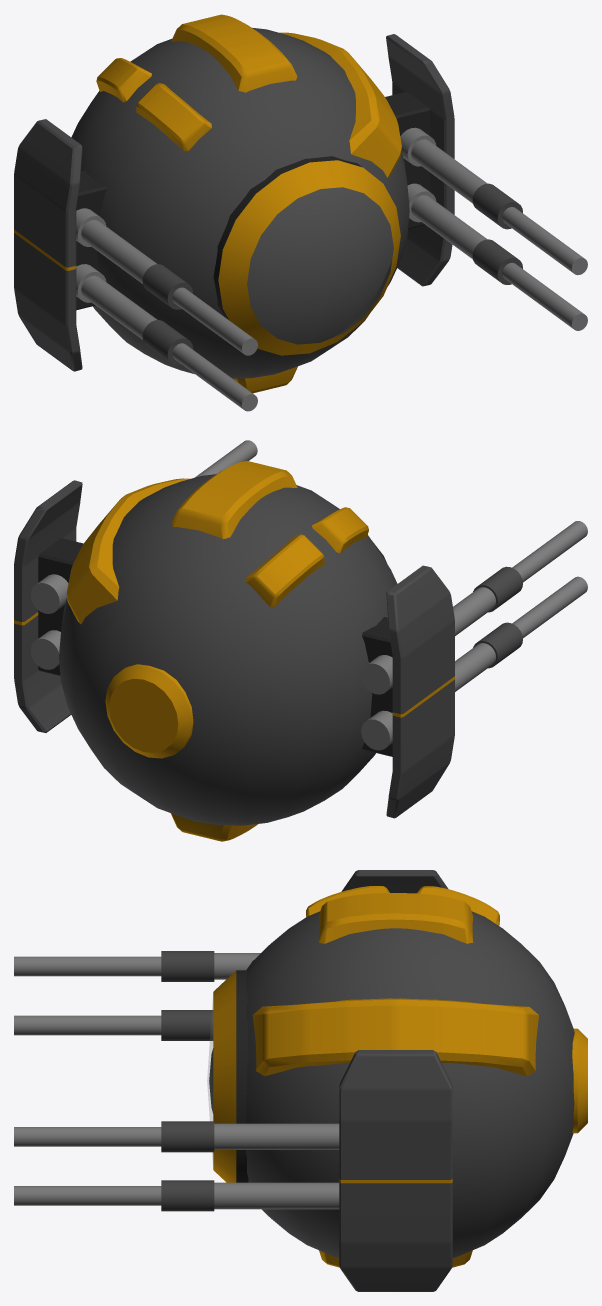
File: drone01.fbx
3 views of the same model, one above another, from view 1: azimuth 30°, elevation 25°; view 2: azimuth 150°, elevation 25°; view 3: azimuth 270°, elevation 25° (orthographic). The views are drawn at different scales.
Parts seen in each view (by area): view 1: polySurface11, polySurface20, polySurface14, polySurface13, polySurface15, polySurface19, polySurface23, polySurface12, polySurface22, polySurface21, polySurface24; view 2: polySurface11, polySurface13, polySurface14, polySurface15, pCylinder8, polySurface19, polySurface23, polySurface12, polySurface21, polySurface22, polySurface24; view 3: polySurface11, polySurface15, polySurface14, polySurface23, polySurface20, polySurface19, polySurface13, pCylinder8, polySurface21, polySurface22.
Boxes of the visible parts, <box> form: polySurface11: <box>71,27,409,378</box>; polySurface20: <box>213,156,400,355</box>; polySurface14: <box>76,127,587,411</box>; polySurface13: <box>14,119,82,371</box>; polySurface15: <box>386,34,454,286</box>; polySurface19: <box>171,14,297,92</box>; polySurface23: <box>279,32,401,177</box>; polySurface12: <box>76,91,430,310</box>; polySurface22: <box>136,83,211,151</box>; polySurface21: <box>96,58,151,102</box>; polySurface24: <box>233,366,297,393</box>; polySurface11: <box>59,474,397,825</box>; polySurface13: <box>386,565,454,818</box>; polySurface14: <box>30,440,587,750</box>; polySurface15: <box>14,480,82,732</box>; pCylinder8: <box>105,664,193,758</box>; polySurface19: <box>171,461,297,538</box>; polySurface23: <box>66,478,190,623</box>; polySurface12: <box>38,538,392,756</box>; polySurface21: <box>246,534,324,607</box>; polySurface22: <box>312,507,368,553</box>; polySurface24: <box>170,813,257,841</box>; polySurface11: <box>209,911,574,1257</box>; polySurface15: <box>339,1050,452,1291</box>; polySurface14: <box>14,951,339,1211</box>; polySurface23: <box>252,998,538,1076</box>; polySurface20: <box>207,970,248,1182</box>; polySurface19: <box>318,893,473,943</box>; polySurface13: <box>341,870,448,893</box>; pCylinder8: <box>572,1028,587,1133</box>; polySurface21: <box>417,886,499,925</box>; polySurface22: <box>306,886,389,916</box>.
Size of the model in its own units: 5.72 by 4.77 by 6.9.
